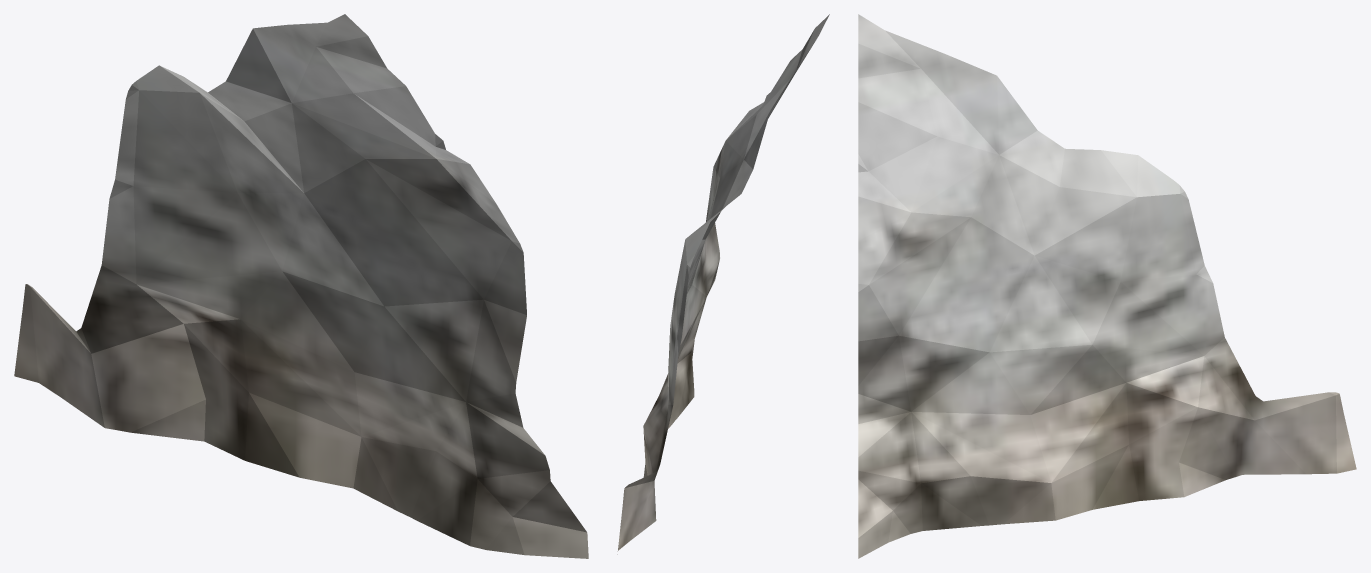
3 views of the same model, side by side, from view 1: azimuth 30°, elevation 25°; view 2: azimuth 150°, elevation 25°; view 3: azimuth 270°, elevation 25° (orthographic). The views are drawn at different scales.
Bounding box in the file's own units: 0.4116 × 0.9753 × 0.9676.
Materials: 1 (1 with a texture image).
